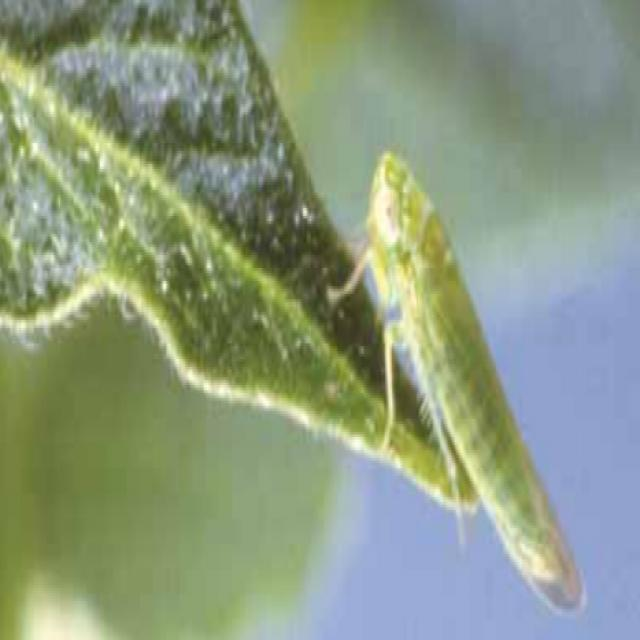Yechan: (327, 125, 617, 622)
